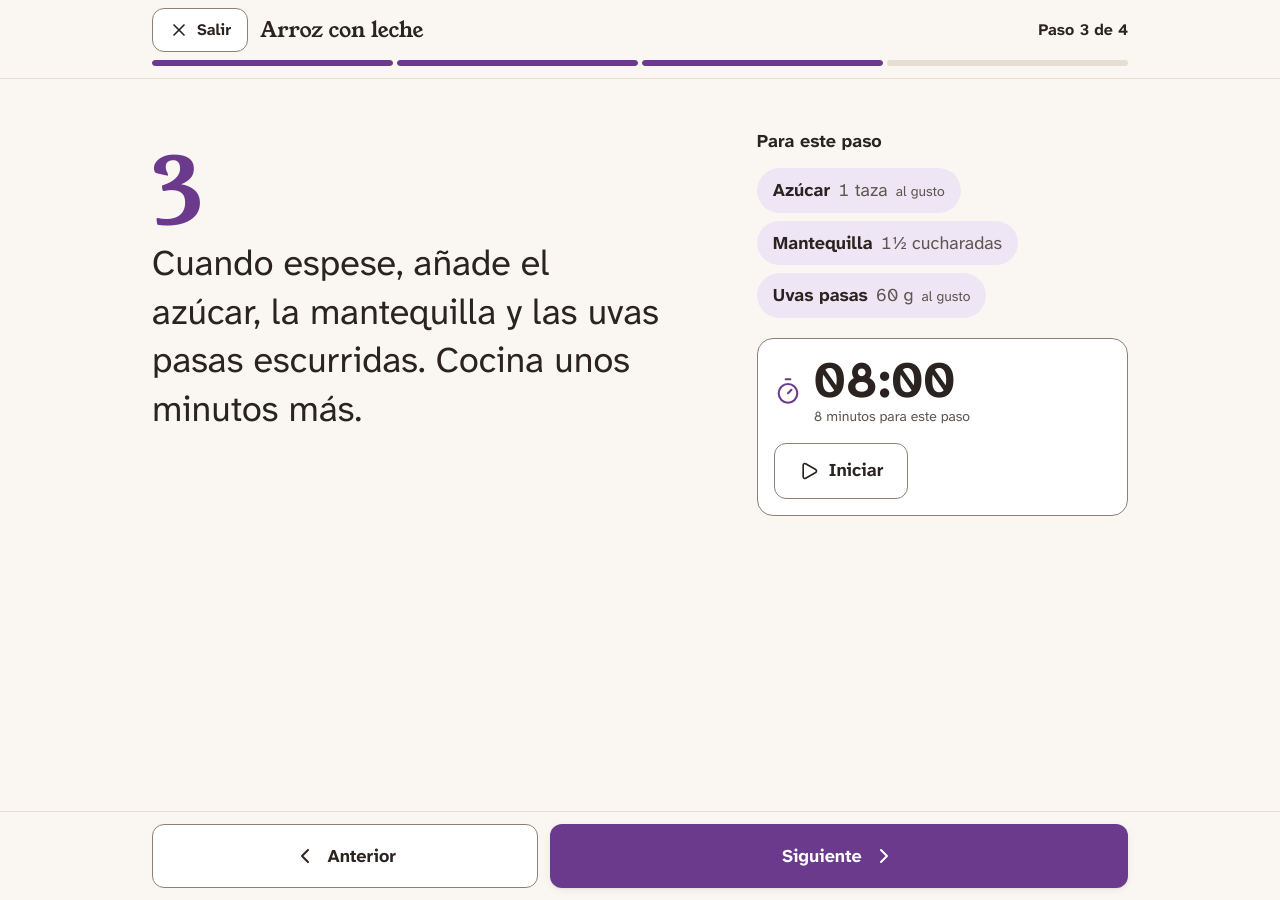
modo cocina › muestra los ingredientes y el temporizador del paso
Expected: the heading "Arroz con leche" is shown, [260, 15, 424, 45]
Expected: the text "Cuando espese, añade el azúcar" is shown, [152, 240, 659, 432]
Click the button "Iniciar". click: click(841, 471)
box: [774, 443, 908, 499]
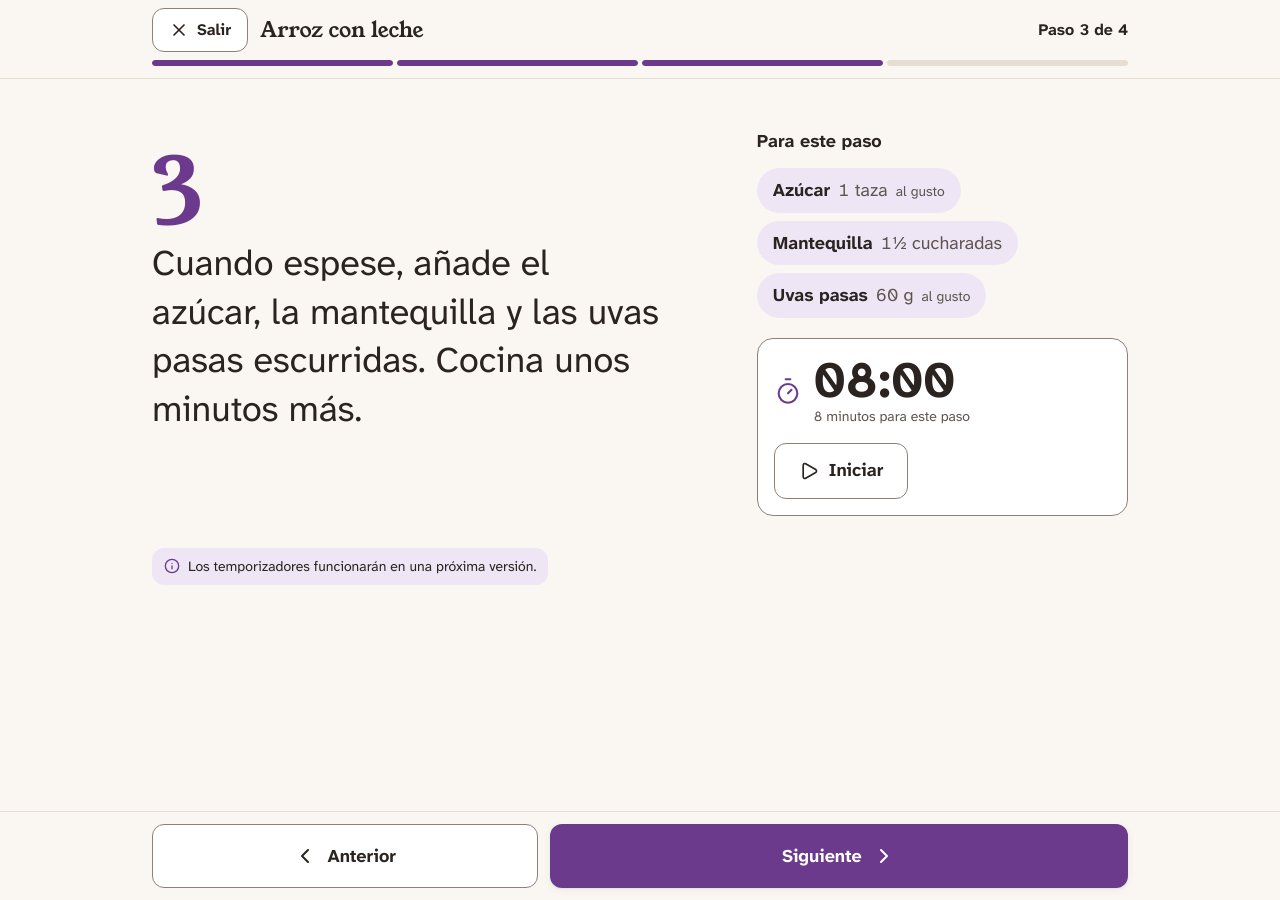
Expected: the text "Los temporizadores funcionarán en una próxima versión." is shown, [152, 548, 548, 585]
